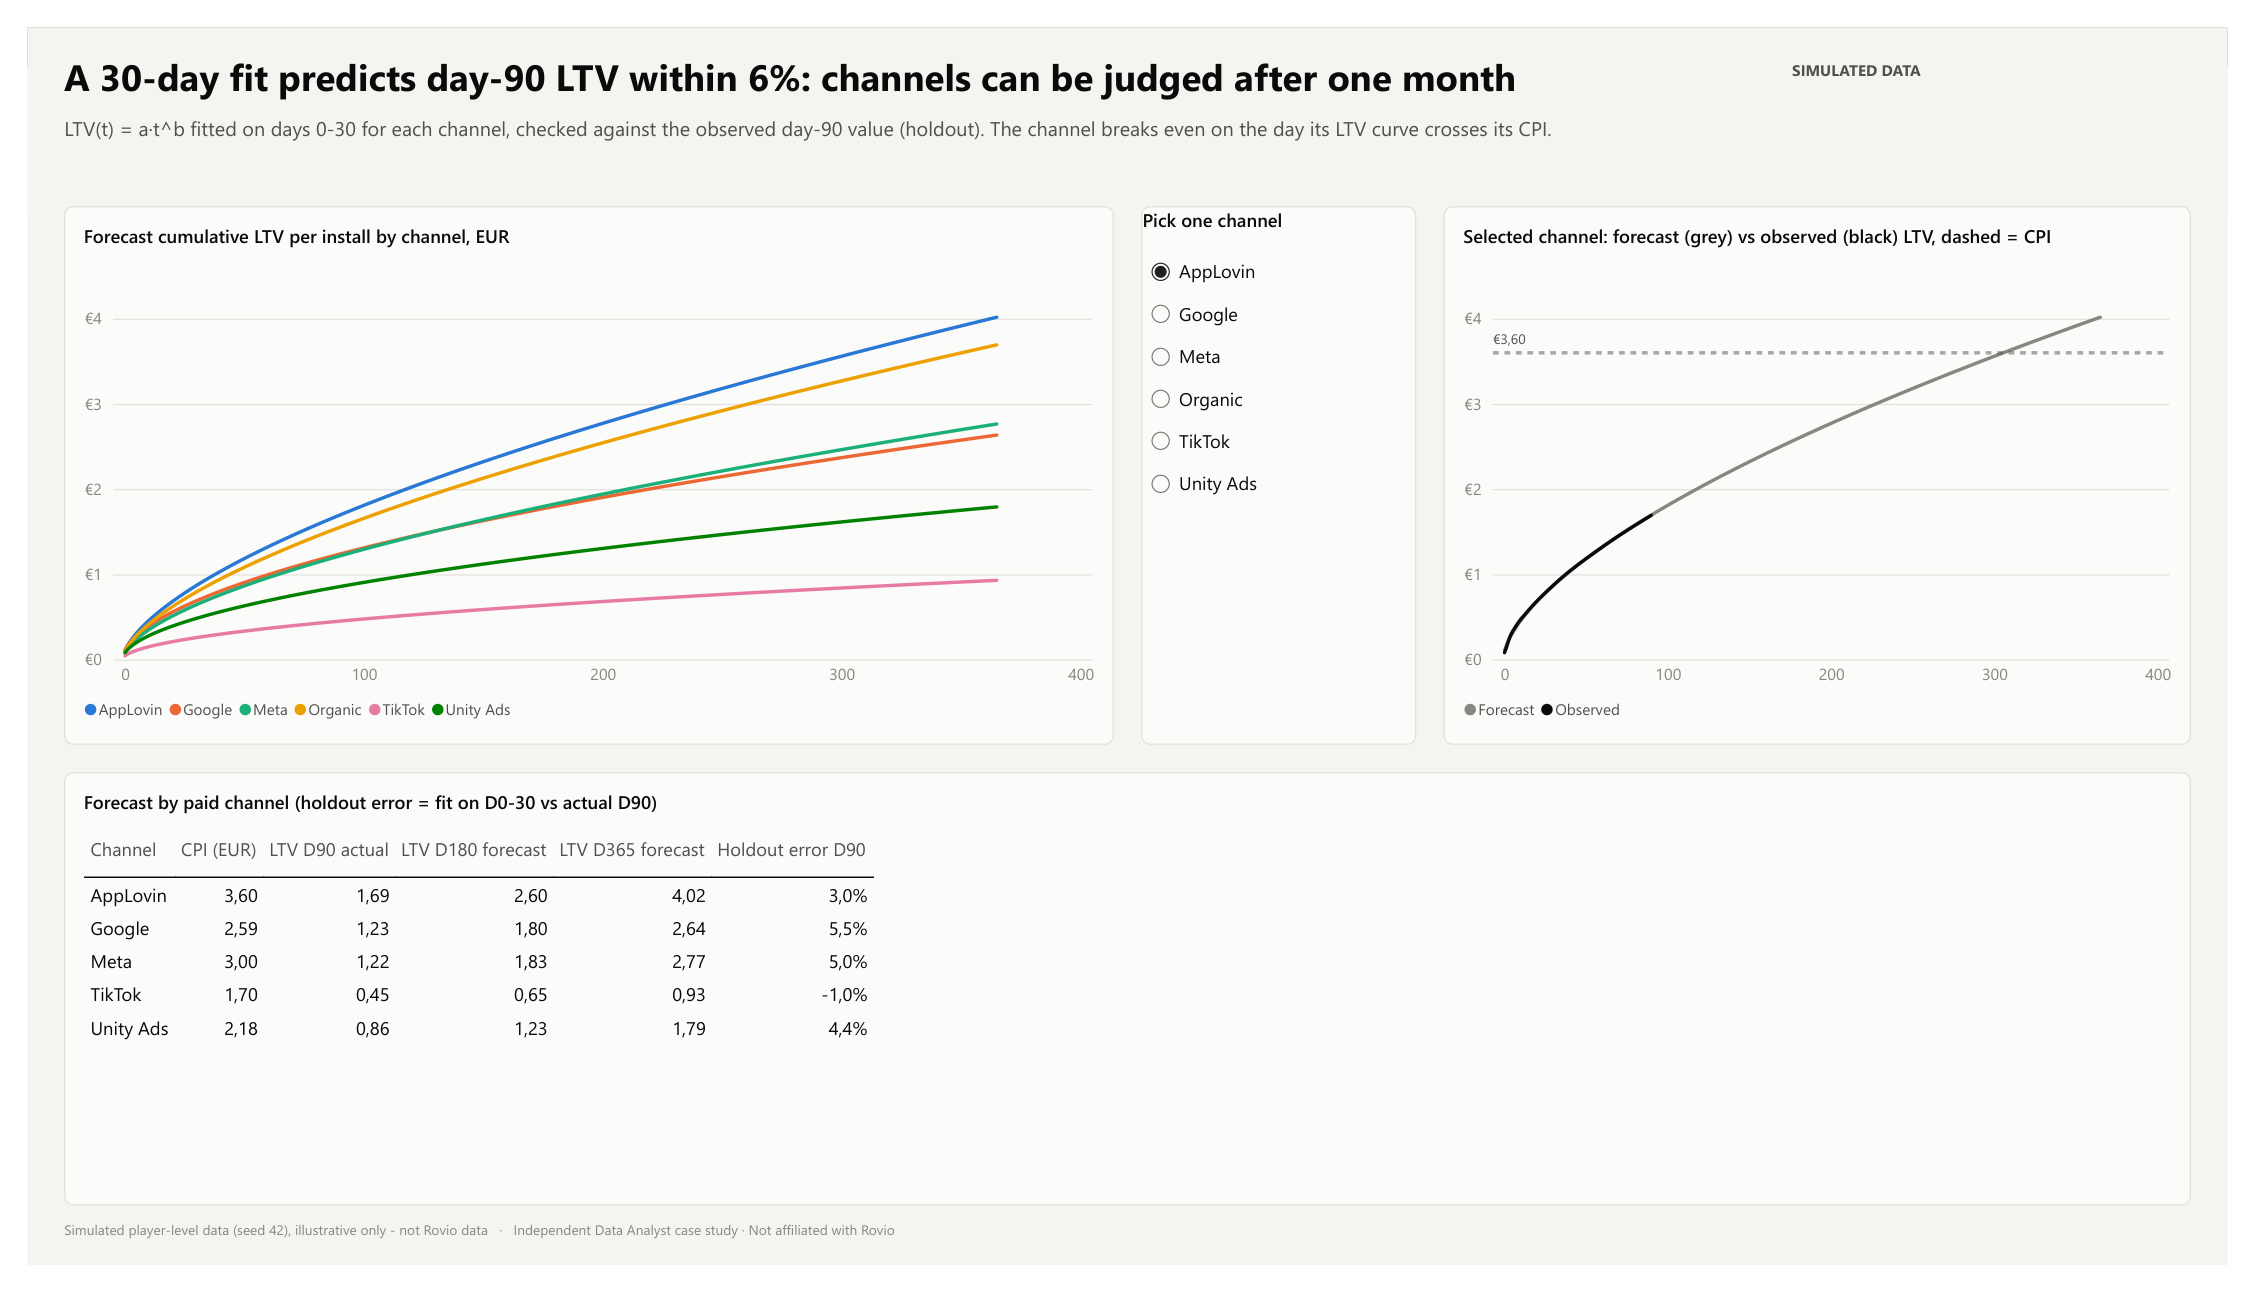

What the dashboard file says about the page in this screenshot:
{"tool":"powerbi","page":{"name":"4 · LTV forecast & payback","canvas":[1920,1080],"ordinal":4},"visuals":[{"type":"textbox","box":[32,20,1500,56],"z":1000},{"type":"textbox","box":[1540,28,348,40],"z":2000},{"type":"textbox","box":[32,76,1856,64],"z":3000},{"type":"lineChart","title":"Forecast cumulative LTV per install by channel, EUR","fields":{"Category":["LTV Curves.day_n"],"Series":["LTV Curves.channel"],"Y":["_Measures.LTV Forecast"]},"box":[32,156,916,470],"z":4000},{"type":"slicer","title":"Pick one channel","fields":{"Values":["Channel.channel"]},"box":[972,156,240,470],"z":5000},{"type":"lineChart","title":"Selected channel: forecast (grey) vs observed (black) LTV, dashed = CPI","fields":{"Category":["LTV Curves.day_n"],"Y":["_Measures.LTV Forecast","_Measures.LTV Observed"]},"box":[1236,156,652,470],"z":6000},{"type":"tableEx","title":"Forecast by paid channel (holdout error = fit on D0-30 vs actual D90)","fields":{"Values":["LTV Forecast.channel","Sum(LTV Forecast.cpi_eur)","Sum(LTV Forecast.ltv_d90_actual)","Sum(LTV Forecast.ltv_d180_forecast)","Sum(LTV Forecast.ltv_d365_forecast)","Sum(LTV Forecast.holdout_d30_to_d90_error)"]},"box":[32,650,1856,378],"z":7000},{"type":"textbox","box":[32,1040,1856,32],"z":8000}]}

Visuals, with their boxes in screenshot pixels (x1, y1, x2, y2), scaled from the page's 1920x1080 canvas onto the 2255x1293 screenshot:
textbox: (x1=38, y1=24, x2=1799, y2=91)
textbox: (x1=1809, y1=34, x2=2217, y2=81)
textbox: (x1=38, y1=91, x2=2217, y2=168)
"Forecast cumulative LTV per install by channel, EUR" lineChart: (x1=38, y1=187, x2=1113, y2=749)
"Pick one channel" slicer: (x1=1142, y1=187, x2=1423, y2=749)
"Selected channel: forecast (grey) vs observed (black) LTV, dashed = CPI" lineChart: (x1=1452, y1=187, x2=2217, y2=749)
"Forecast by paid channel (holdout error = fit on D0-30 vs actual D90)" tableEx: (x1=38, y1=778, x2=2217, y2=1231)
textbox: (x1=38, y1=1245, x2=2217, y2=1283)
